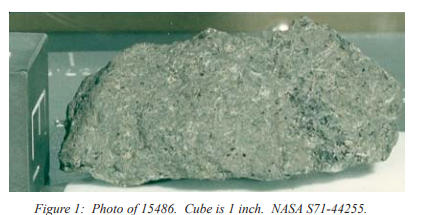Basalt: (77, 37, 388, 176)
